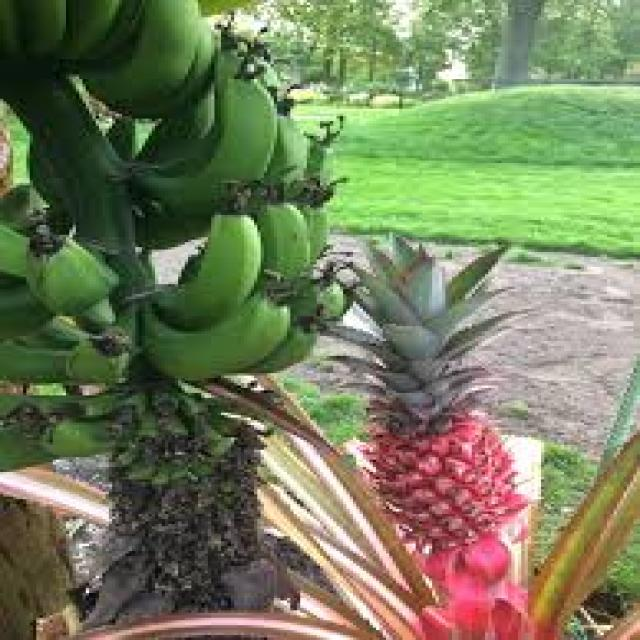banana: (5, 3, 344, 415)
